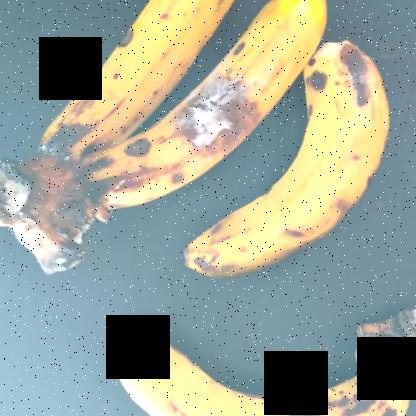overripe: (170, 46, 410, 288), (81, 1, 355, 211), (27, 1, 258, 168), (94, 336, 414, 416)
rotten: (145, 68, 281, 181)
